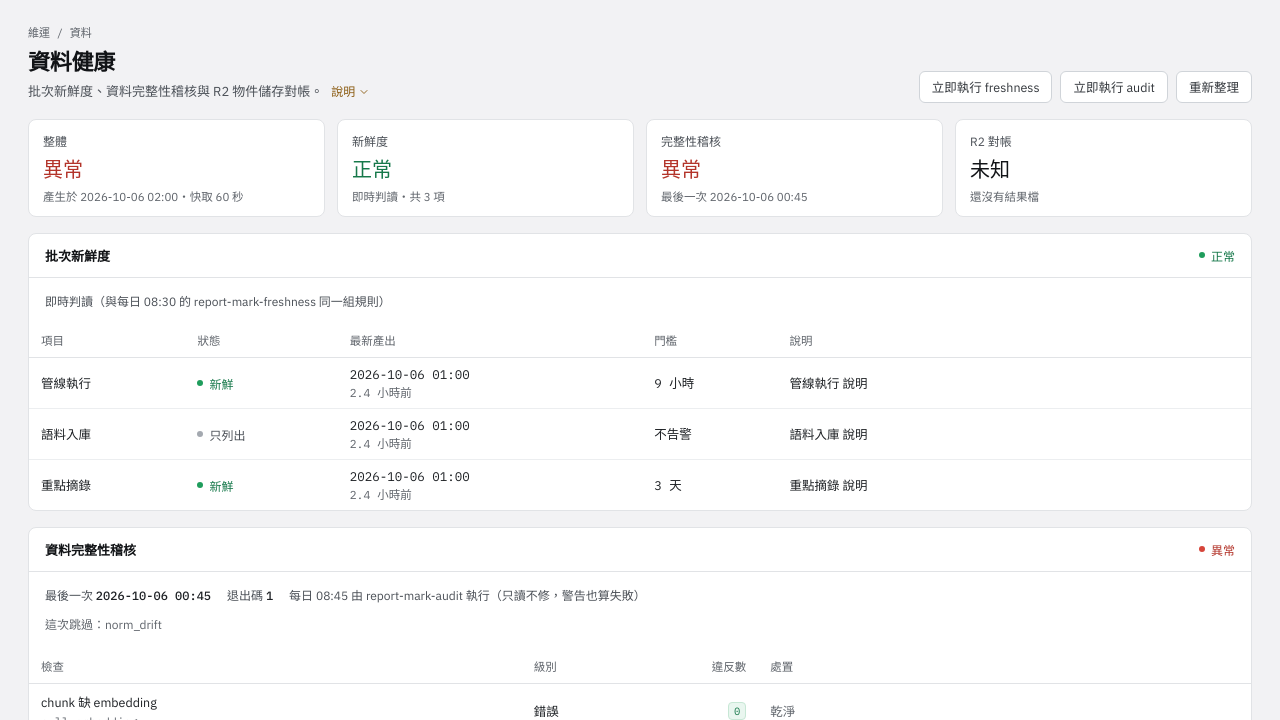
Test case: 資料健康：立即執行要先確認；取消不送出，確認後送出並提示
Step 1. Click the button "立即執行 freshness" → (986, 87), box [919,71,1052,103]
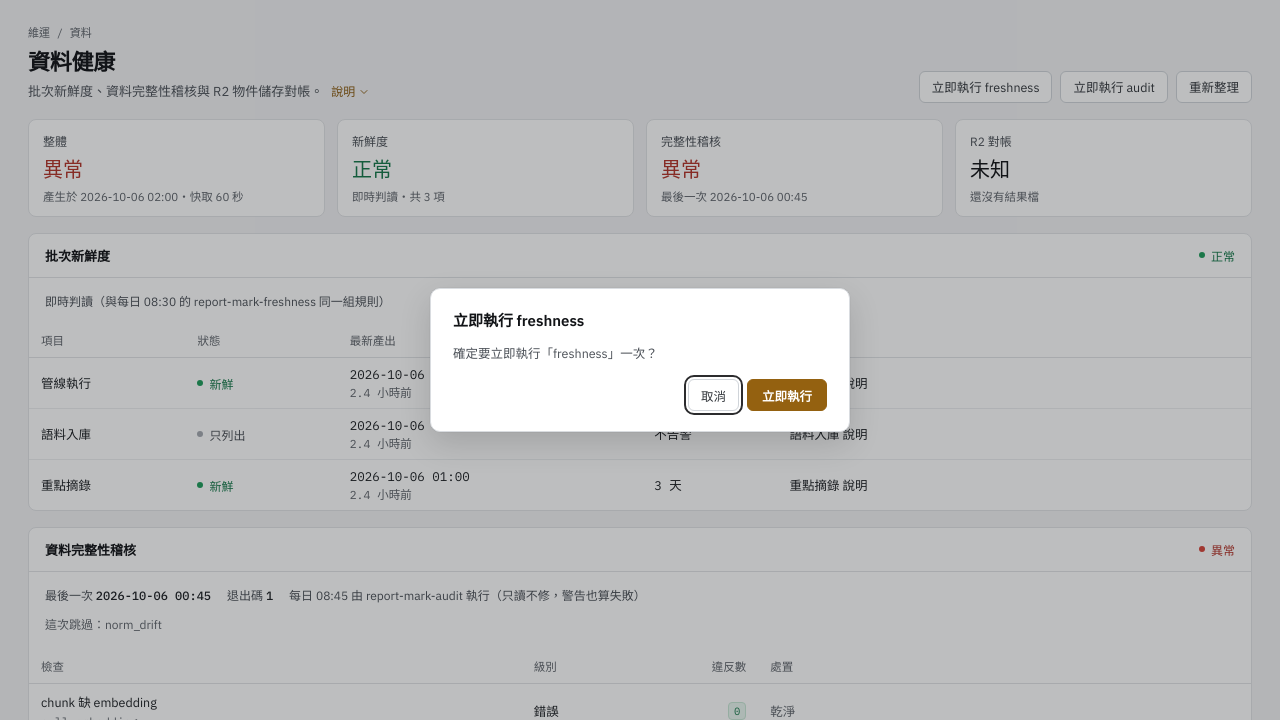
Step 2. Click the button "取消" → (714, 395), box [688,379,739,411]
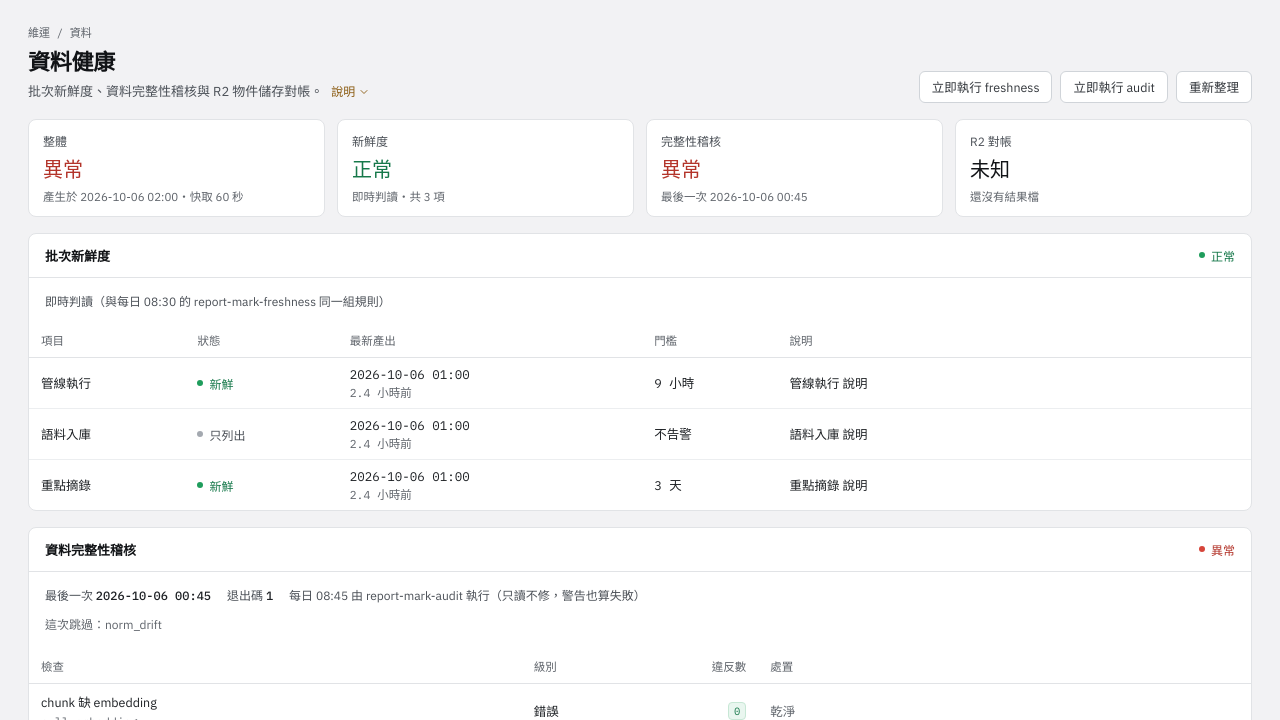
expect the dialog is gone: met
Step 3. Click the button "立即執行 freshness" → (986, 87), box [919,71,1052,103]
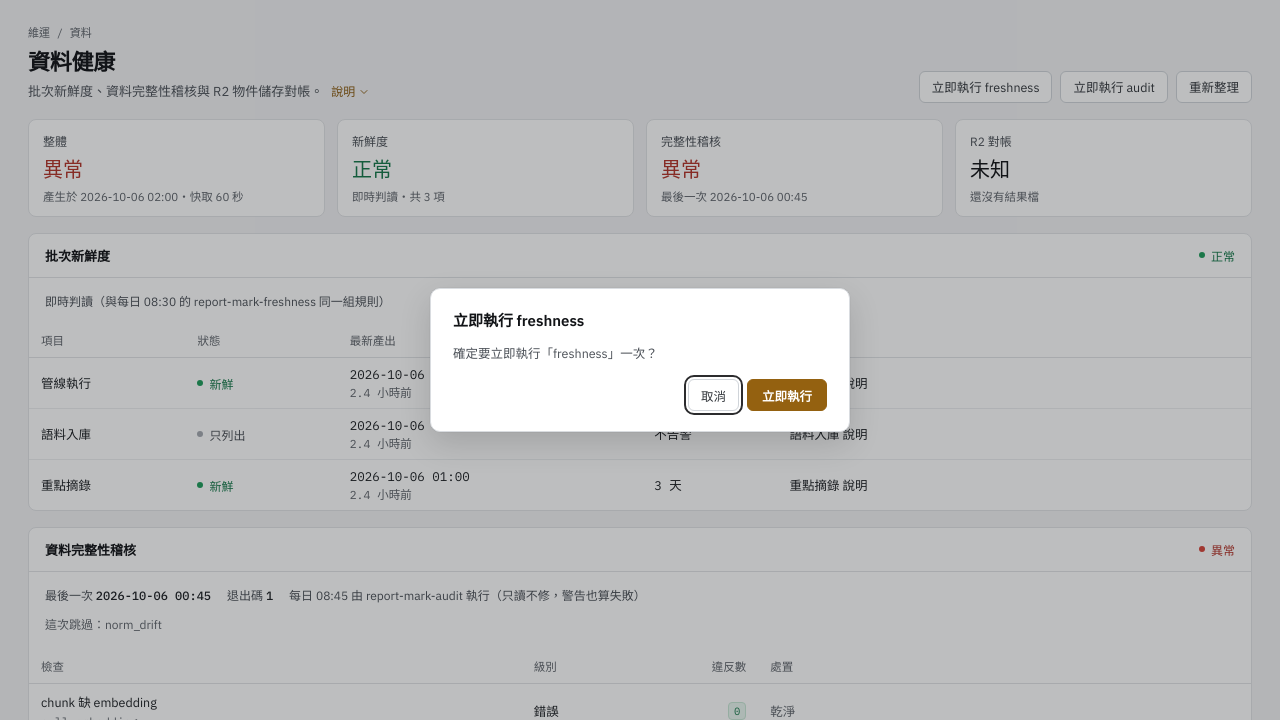
Step 4. Click the button "立即執行" → (787, 395), box [747,379,827,411]
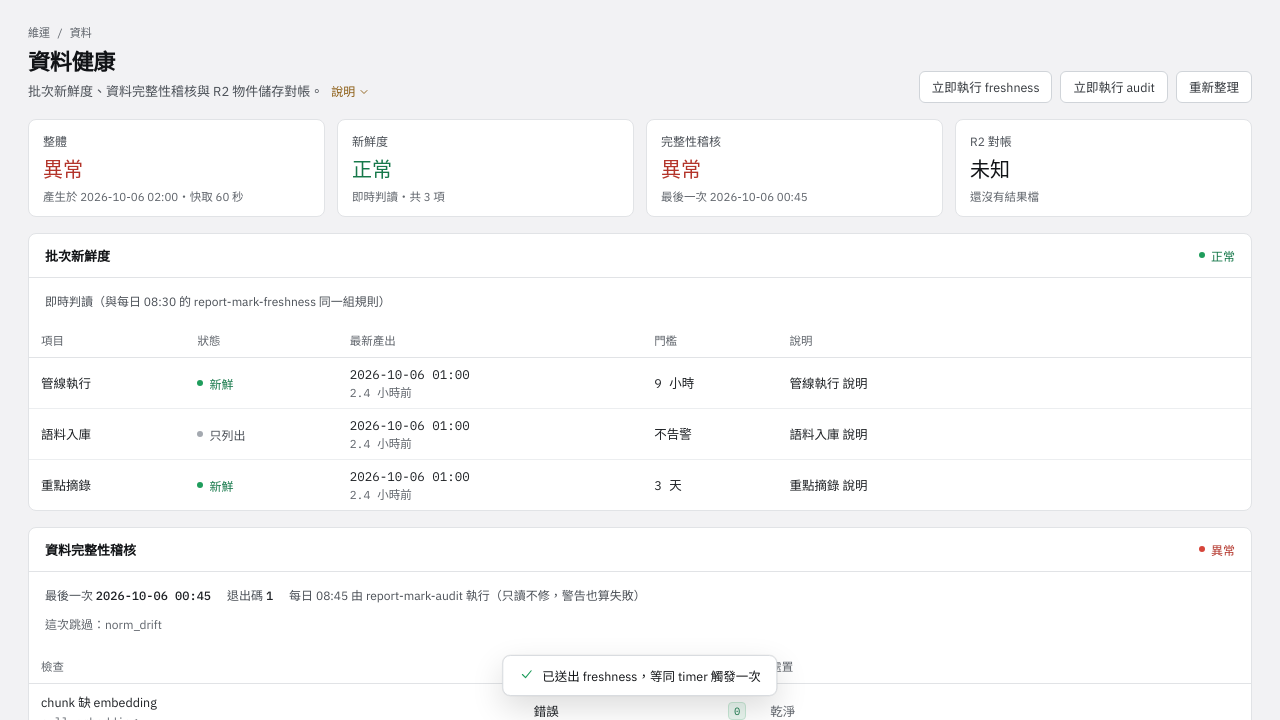
expect the text "已送出 freshness，等同 timer 觸發一次" is shown: met, box [502,655,778,696]
